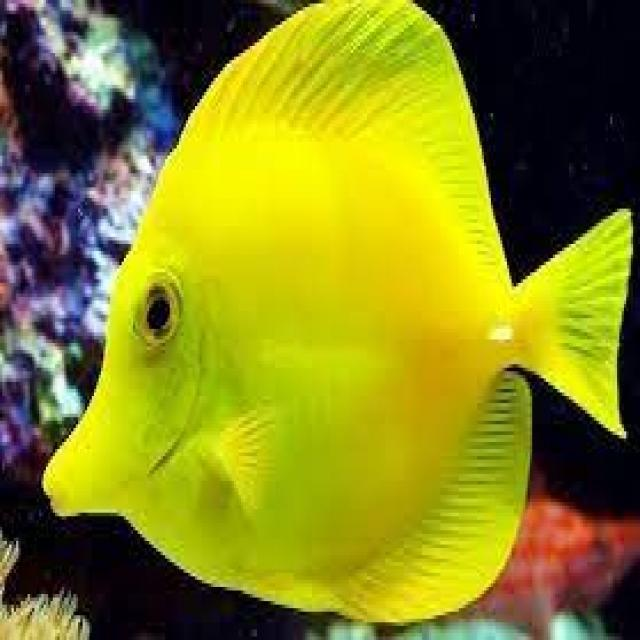YellowTang: (34, 0, 640, 638)
